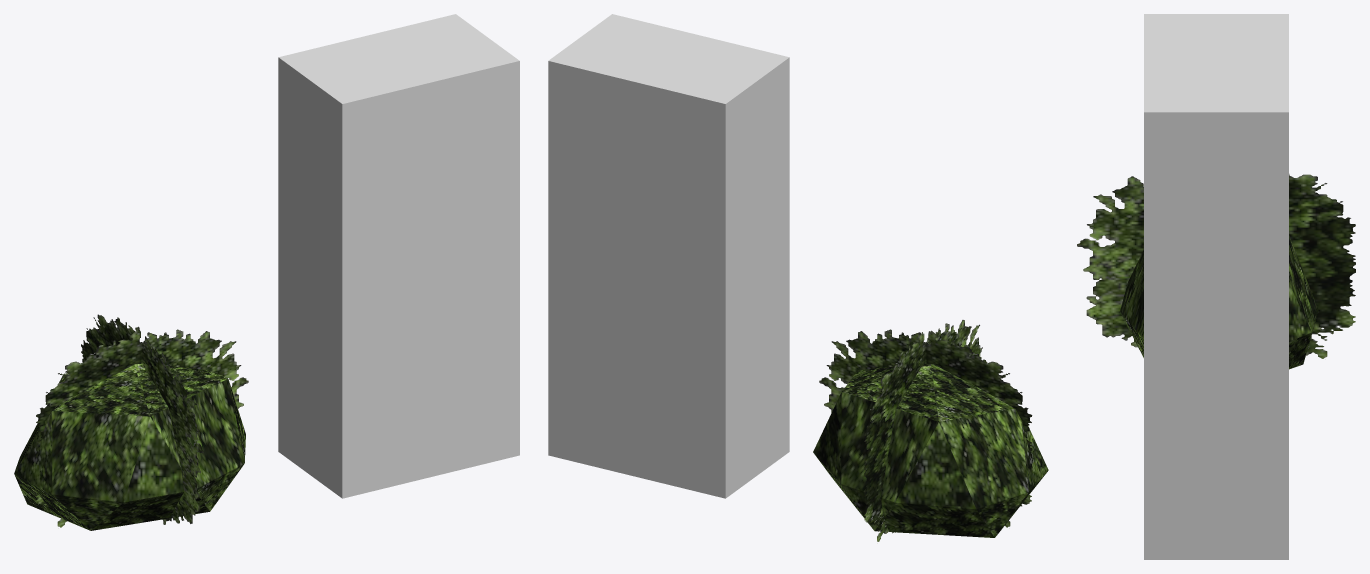
The model's file is bush.fbx.
3 renders of one model, left to right at view 1: azimuth 30°, elevation 25°; view 2: azimuth 150°, elevation 25°; view 3: azimuth 270°, elevation 25°, orthographic. The views are drawn at different scales.
Parts seen in each view (by area): view 1: Cube.001, Icosphere, Cube; view 2: Cube.001, Icosphere, Cube; view 3: Cube.001, Cube, Icosphere.
Boxes of the visible parts, x1,y1,x2,y2 form: Cube.001: (278, 14, 519, 498); Icosphere: (14, 363, 245, 530); Cube: (36, 314, 248, 527); Cube.001: (548, 14, 789, 498); Icosphere: (813, 363, 1048, 537); Cube: (819, 320, 1032, 541); Cube.001: (1144, 14, 1288, 559); Cube: (1077, 174, 1355, 358); Icosphere: (1120, 235, 1318, 369).
Bounding box in the file's own units: 208 × 172 × 96.
2 materials, 2 textured.
